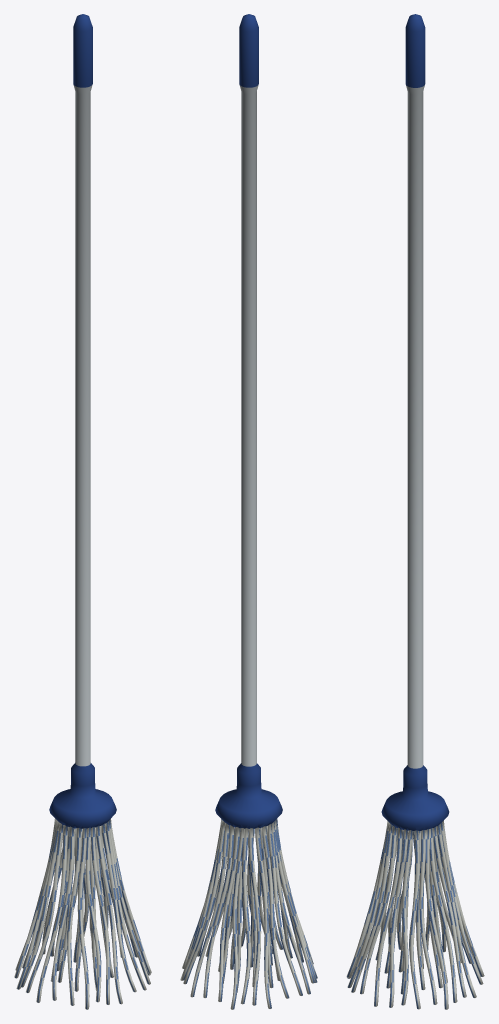
The picture shows the model from 3 angles, left to right: view 1: azimuth 90°, elevation 25°; view 2: azimuth 150°, elevation 25°; view 3: azimuth 270°, elevation 25°; orthographic projection.
Parts seen in each view (by area): view 1: NEW306_StringMop_LOD1; view 2: NEW306_StringMop_LOD1; view 3: NEW306_StringMop_LOD1.
Boxes of the visible parts, bbox=[...] form: NEW306_StringMop_LOD1: bbox=[14, 14, 151, 1009]; NEW306_StringMop_LOD1: bbox=[180, 14, 317, 1009]; NEW306_StringMop_LOD1: bbox=[346, 14, 484, 1009].
Size of the model in its own units: 0.1954 by 1.52 by 0.1954.
